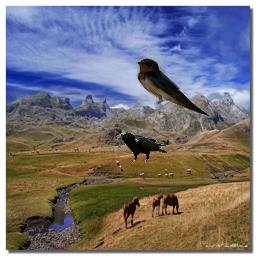Crow: (114, 132, 167, 163)
Swallow: (135, 57, 211, 118)
